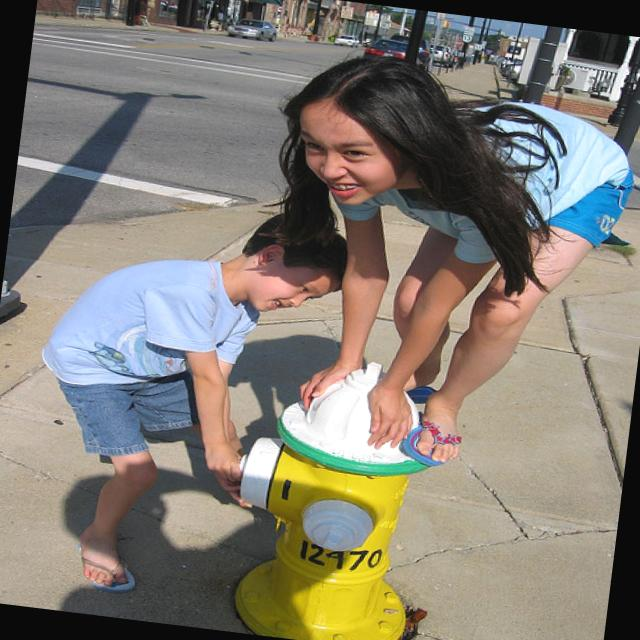Vehicle: (363, 35, 431, 68), (386, 32, 436, 72), (226, 16, 278, 42), (429, 42, 458, 68), (333, 33, 360, 48), (508, 63, 522, 80)
